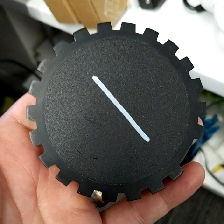gear: (25, 19, 206, 204)
missing: (167, 123, 204, 183)
